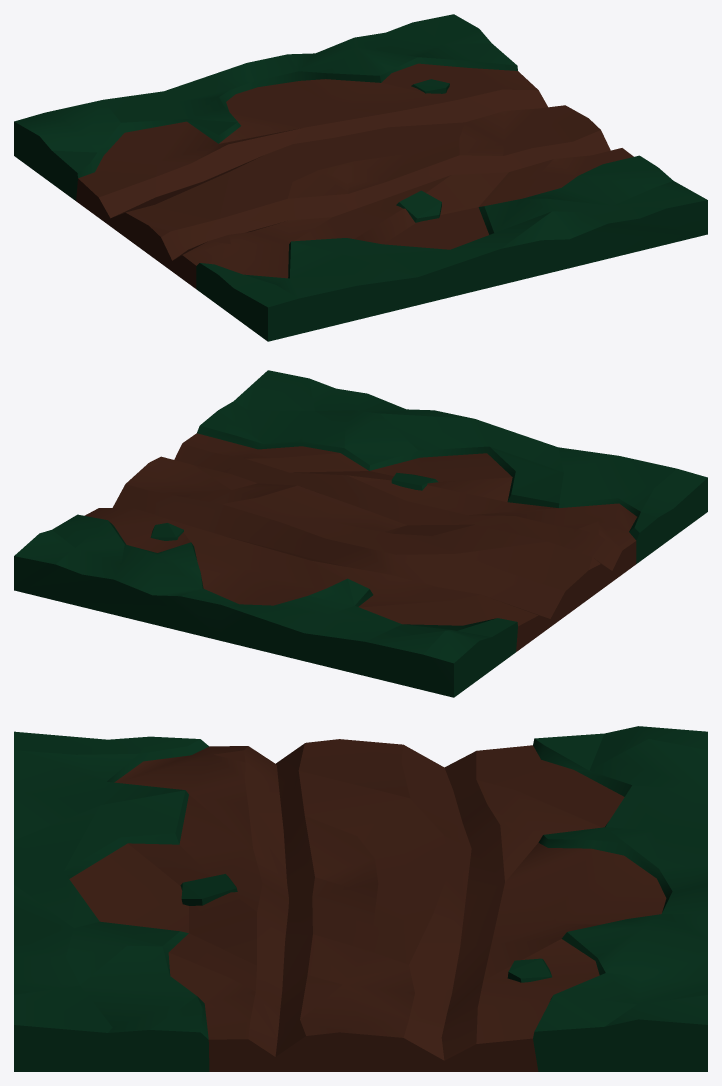
The model's file is Ground_Road_H.fbx.
The picture shows the model from 3 angles, top to bottom: view 1: azimuth 30°, elevation 25°; view 2: azimuth 150°, elevation 25°; view 3: azimuth 270°, elevation 25°; orthographic projection. The views are drawn at different scales.
Visible parts, largest first — view 1: Ground_Road_H; view 2: Ground_Road_H; view 3: Ground_Road_H.
Boxes of the visible parts, left/top/right/bottom form: Ground_Road_H: left=14, top=14, right=707, bottom=341; Ground_Road_H: left=14, top=370, right=707, bottom=697; Ground_Road_H: left=14, top=726, right=707, bottom=1071.
Bounding box in the file's own units: 147 × 15.12 × 147.
